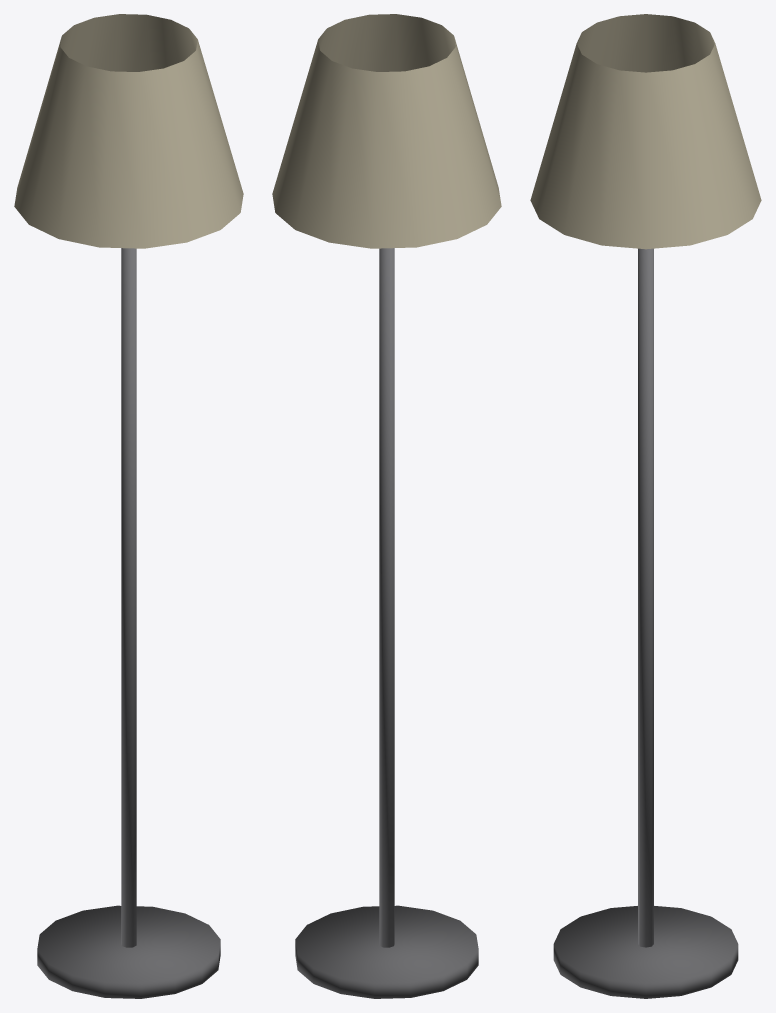
File: floor_lamp.glb
3 views of the same model, side by side, from view 1: azimuth 30°, elevation 25°; view 2: azimuth 150°, elevation 25°; view 3: azimuth 270°, elevation 25° (orthographic).
Visible parts, largest first — view 1: floor_lamp; view 2: floor_lamp; view 3: floor_lamp.
Boxes of the visible parts, left/top/right/bottom form: floor_lamp: left=14, top=14, right=243, bottom=998; floor_lamp: left=272, top=14, right=501, bottom=998; floor_lamp: left=530, top=14, right=761, bottom=998.
Bounding box in the file's own units: 0.4 × 1.75 × 0.4.
